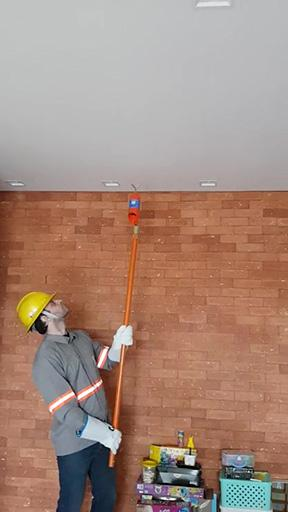Detector_Tensao_Contato: (126, 181, 142, 227)
Vara_Manobra: (109, 227, 139, 469)
